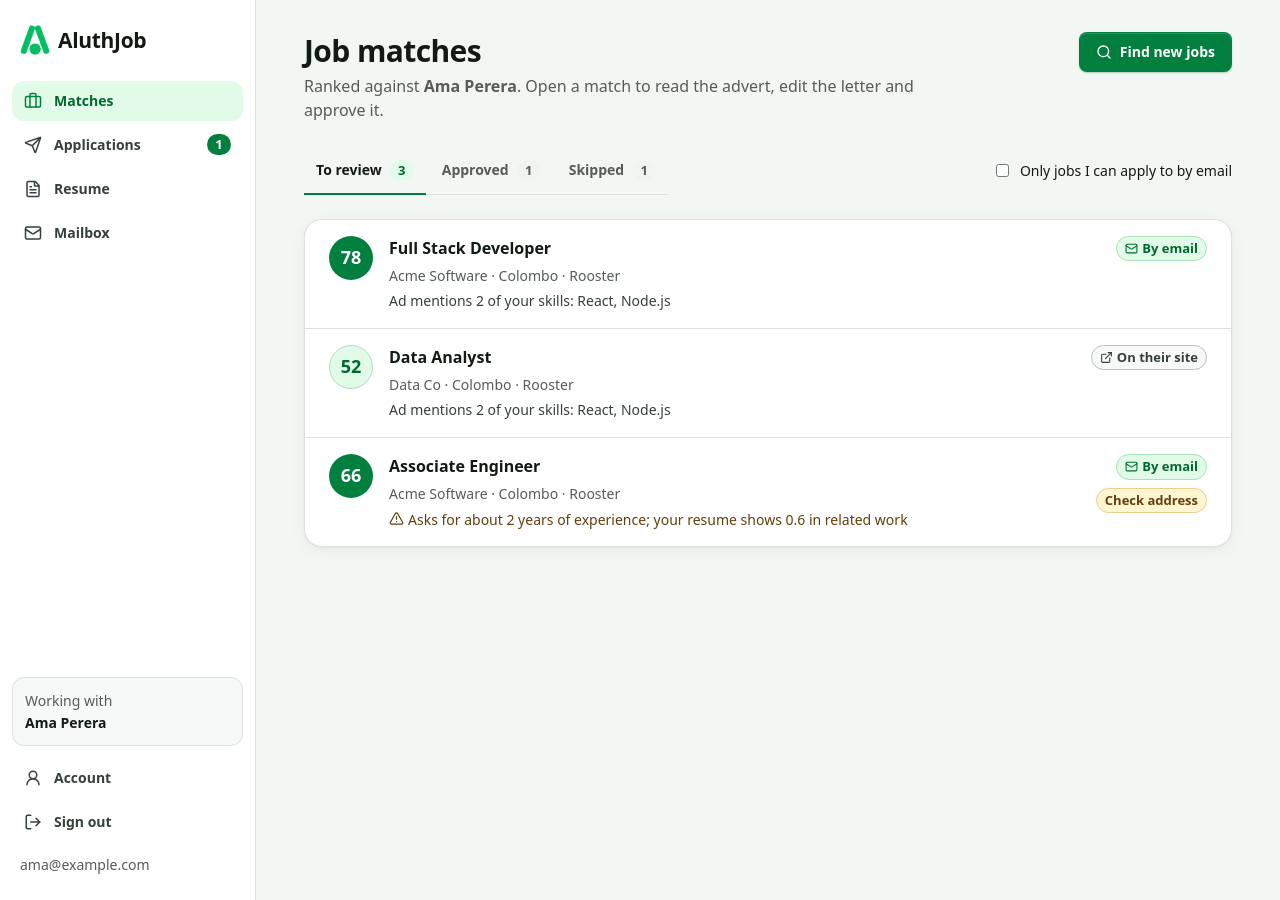
Test case: matches list › counts each tab and switches between them
Expected: the tab "To review 3" is shown, [304,147,426,195]
Expected: the tab "Skipped 1" is shown, [557,147,668,195]
Click the tab "Approved 1". click: (491, 171)
box: [430,147,553,195]
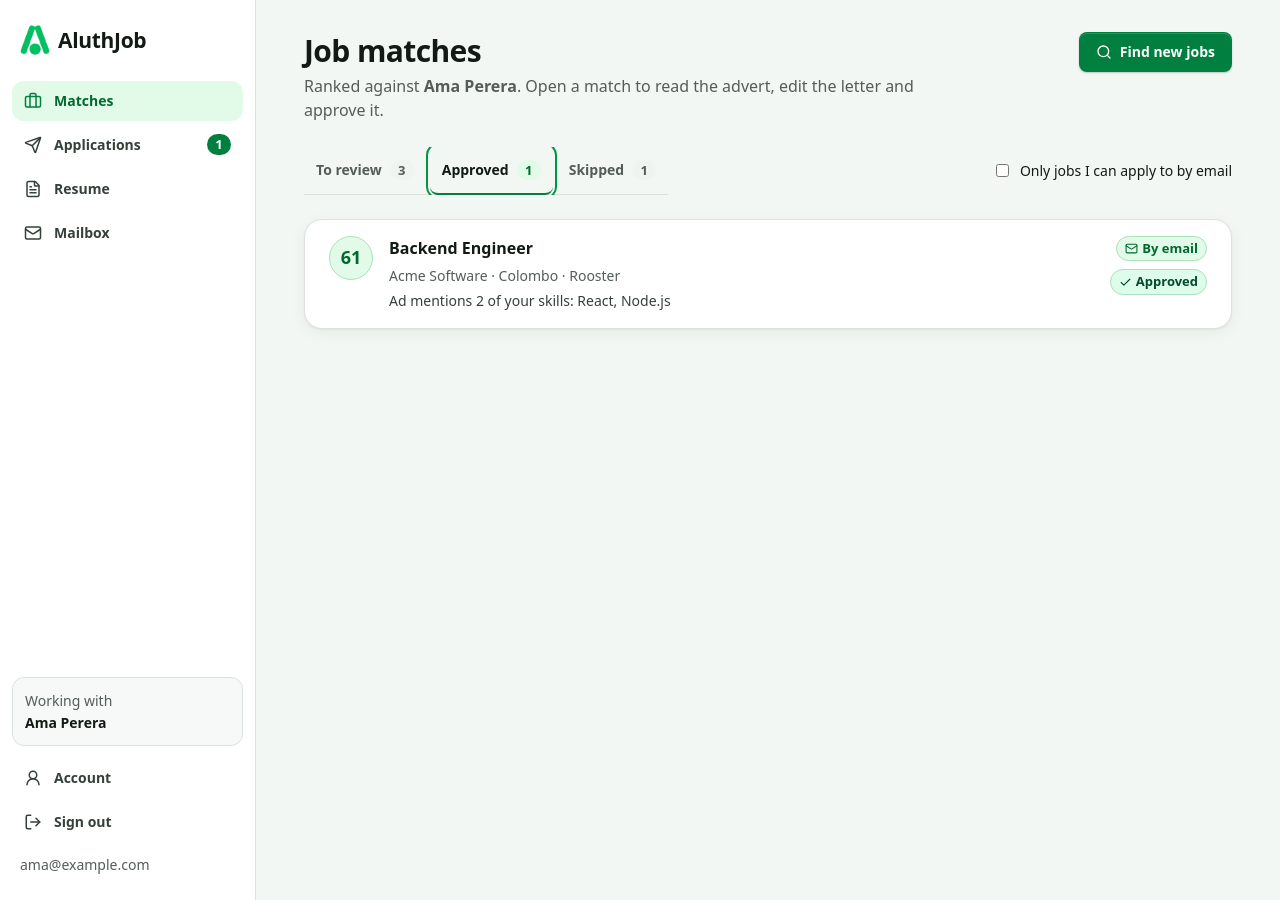
Result: the link "Full Stack Developer" is gone
Result: the link "Backend Engineer" shows "Approved" at [305,220,1231,328]
